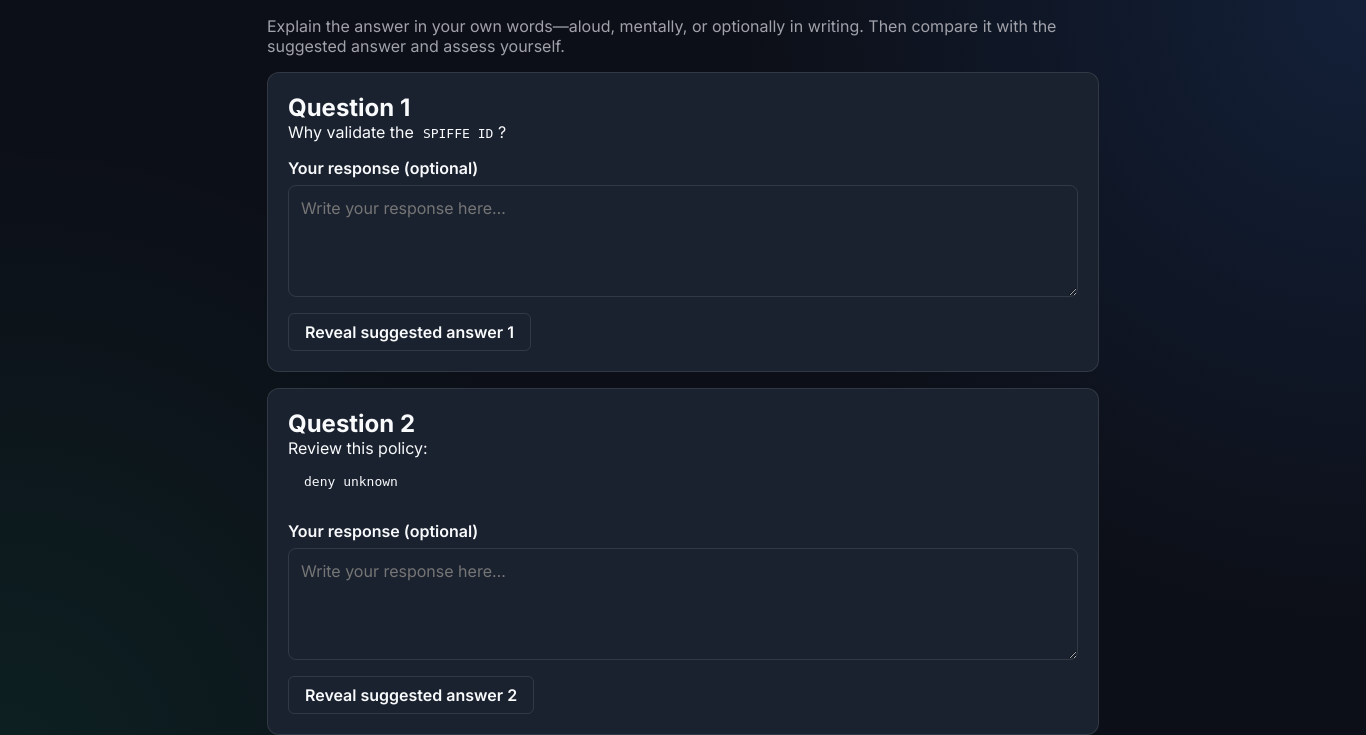
QuestionViewer › reveals suggested answers one question at a time
This screenshot has width=1366, height=735.
Expected: the text "workload identity" is not shown
Type "My response" into the text box named "question 1" at (683, 241), box [288, 185, 1078, 297]
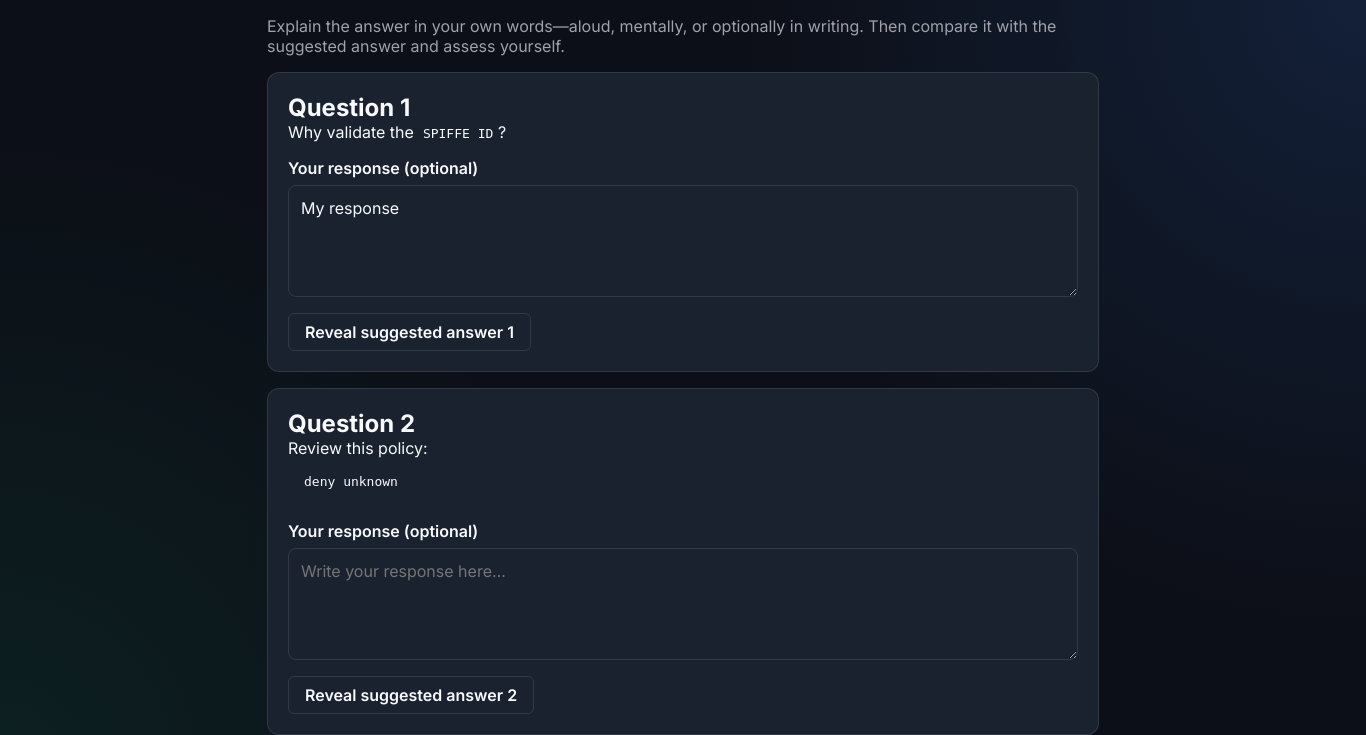
Click the button "Reveal suggested answer 1" at (409, 332), box [288, 313, 531, 351]
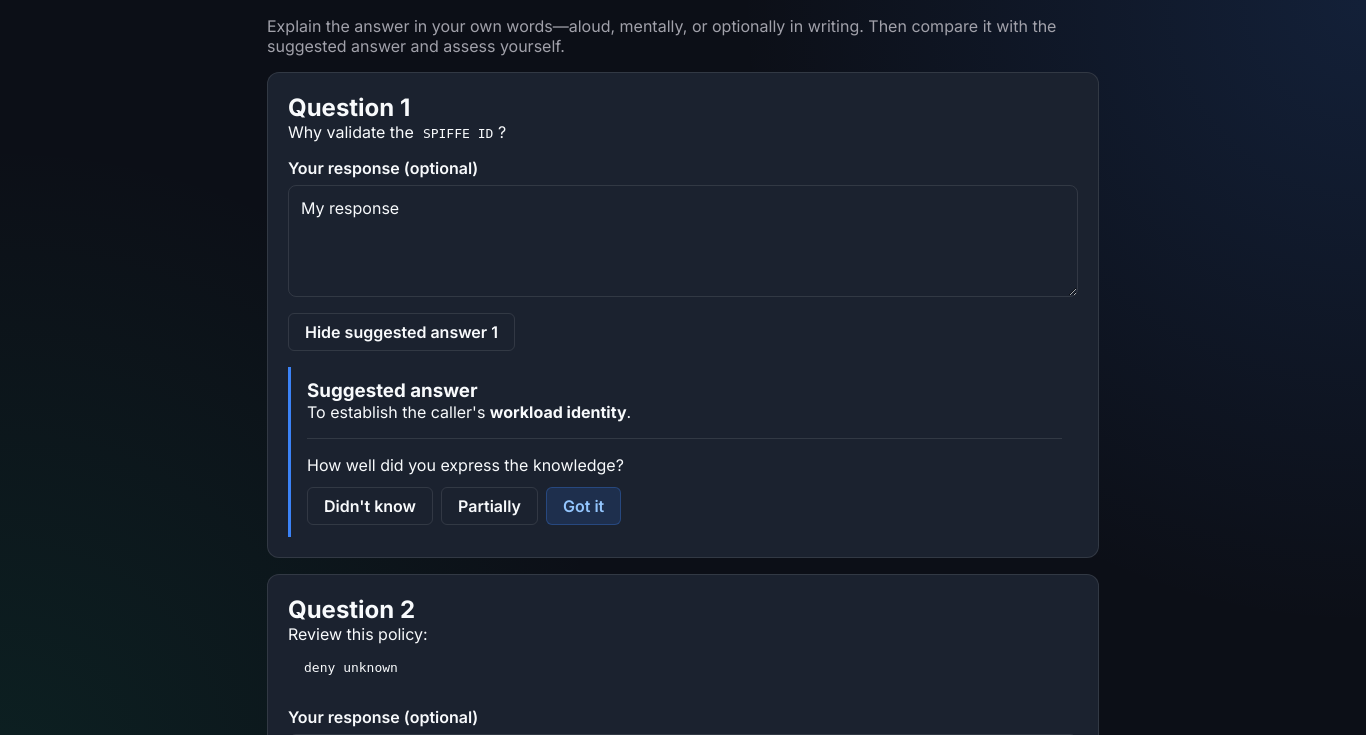
Expected: the text "workload identity" is shown, [490, 402, 626, 422]
